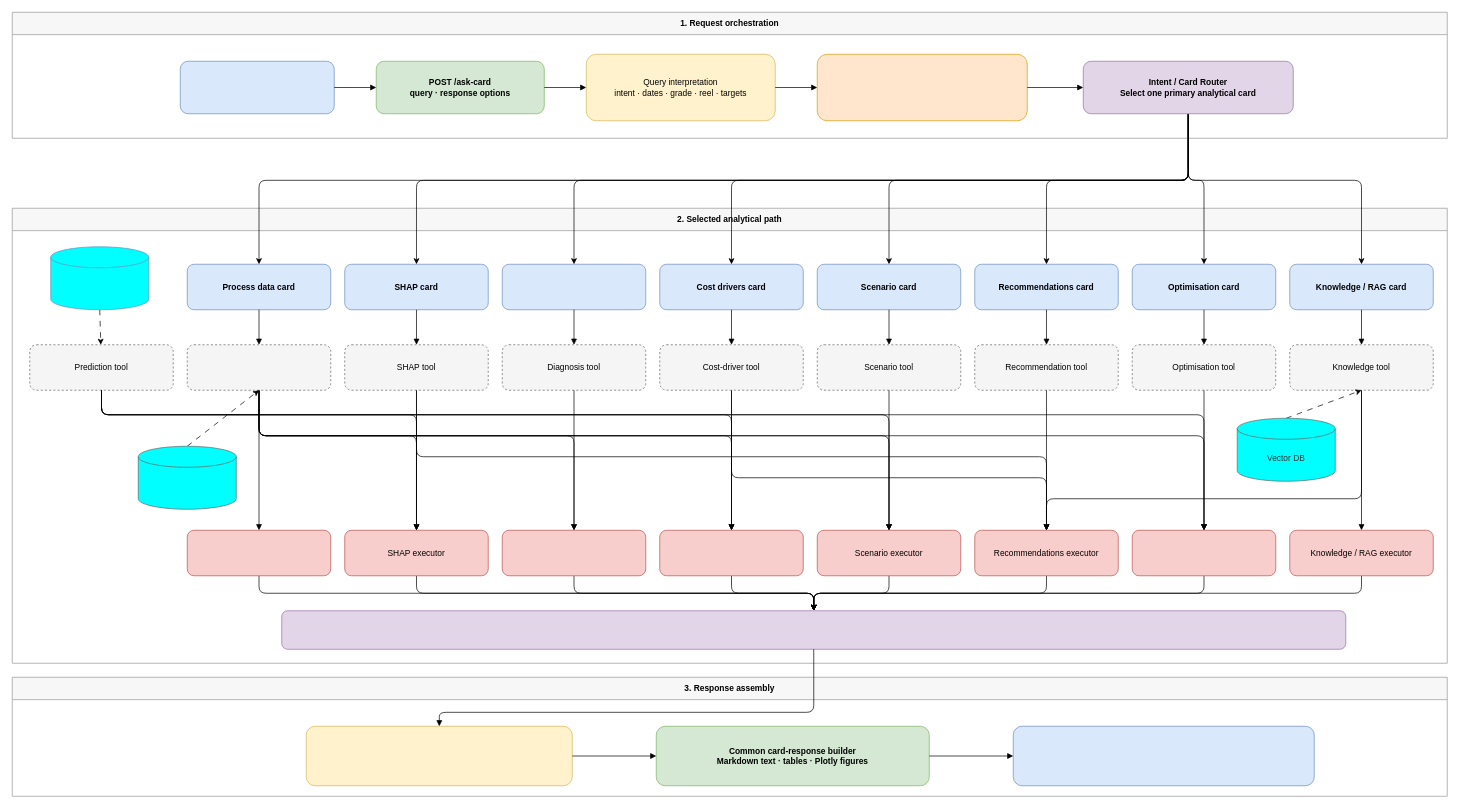
The diagram is 1460 pixels wide and 809 high, and some of its shapes have lost their labels. The shapes that lost their labels are listed below. From the top down, each one's box as (x1, y1, x2, y2) in pixels, then its label:
(180, 61, 334, 114): User / Client Natural-language query
(817, 54, 1027, 121): Friendly-name resolution functions and variables → canonical parameters
(50, 246, 149, 310): ML Cost Models ML Strength Models
(502, 264, 646, 310): Diagnosis card
(187, 344, 331, 390): Process-data tool
(138, 446, 236, 509): Process Data
(187, 530, 331, 576): Process-data executor
(502, 530, 646, 576): Diagnosis executor
(659, 530, 803, 576): Cost-driver executor
(1132, 530, 1276, 576): Optimisation executor
(281, 610, 1346, 649): Selected card result Only the routed analytical path executes
(306, 726, 572, 786): Optional enrichment Diagnosis summary and/or cost-driver summary
(1013, 726, 1314, 786): Response delivery Inline content OR Parquet / Plotly artifact URLs
